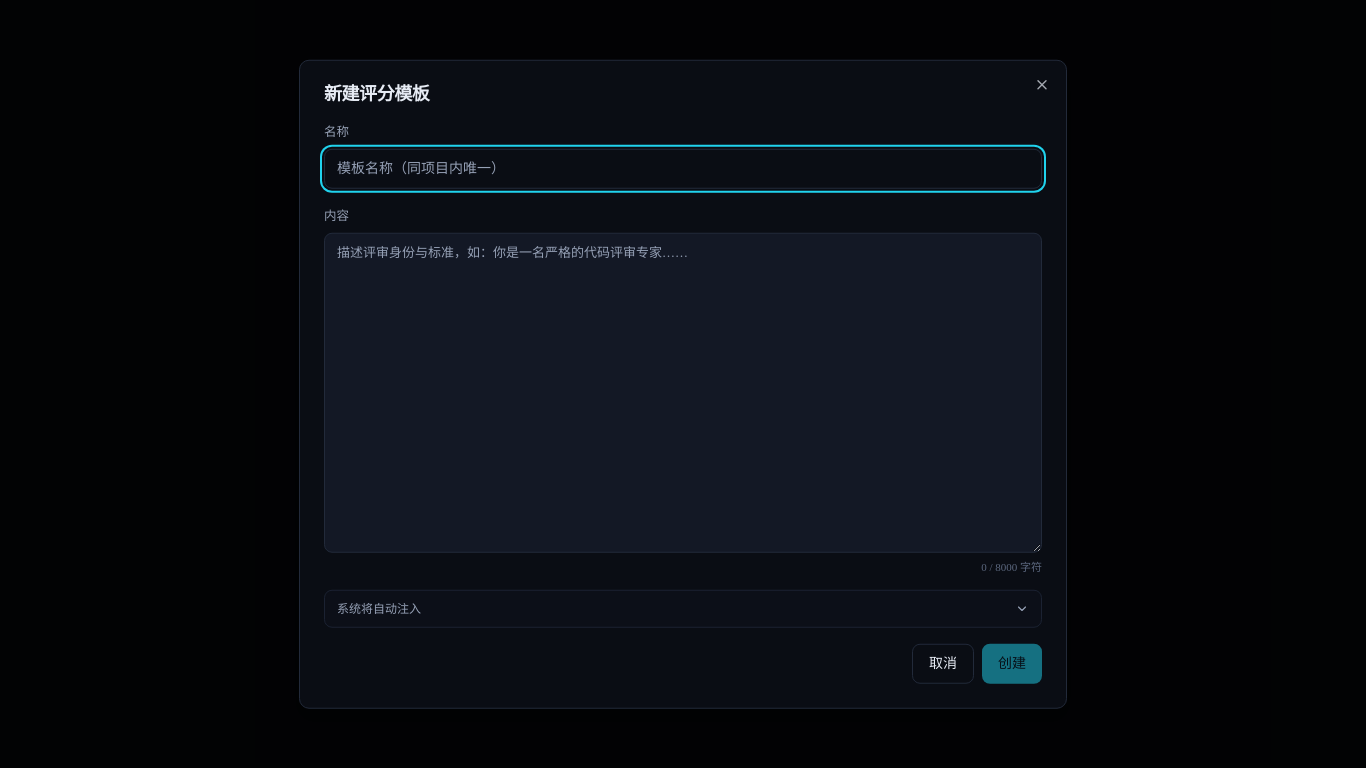
Test case: JudgeTemplateEditorDialog › expands the read-only 系统将自动注入 section on click
Expected: the text "任务输入 / 输出" is not shown
Click the button "系统将自动注入".
click(379, 608)  # box top-left (325, 590), bottom-right (1041, 626)
(page scrolled)
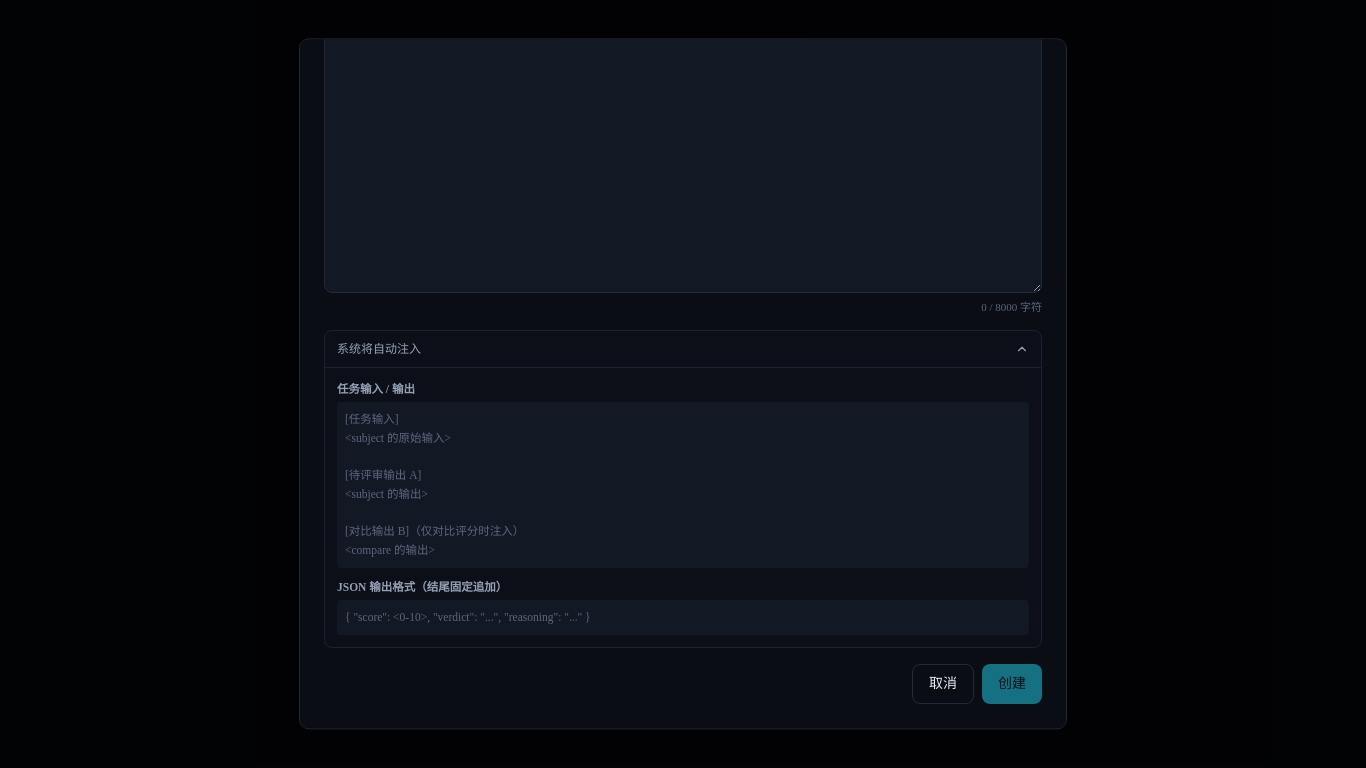
Result: the text "任务输入 / 输出" is shown at top-left (337, 383), bottom-right (415, 395)
Result: the text "JSON 输出格式（结尾固定追加）" is shown at top-left (337, 581), bottom-right (507, 593)
